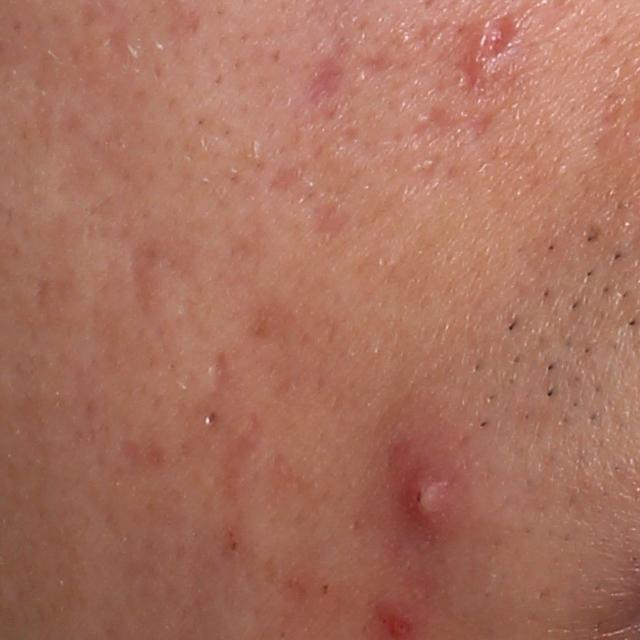atrophic_scar: (303, 33, 357, 119), (215, 417, 269, 500), (127, 233, 166, 319), (304, 193, 356, 249), (481, 5, 524, 64), (411, 98, 462, 143), (263, 155, 307, 201), (459, 103, 503, 141), (207, 348, 237, 402)
comedo: (204, 410, 218, 425)
pustule: (394, 462, 463, 545)
